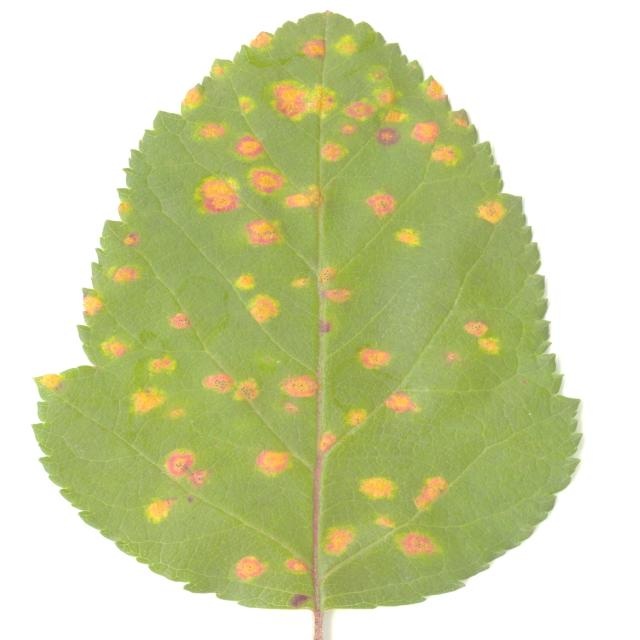Chlorosis: (31, 10, 585, 635)
